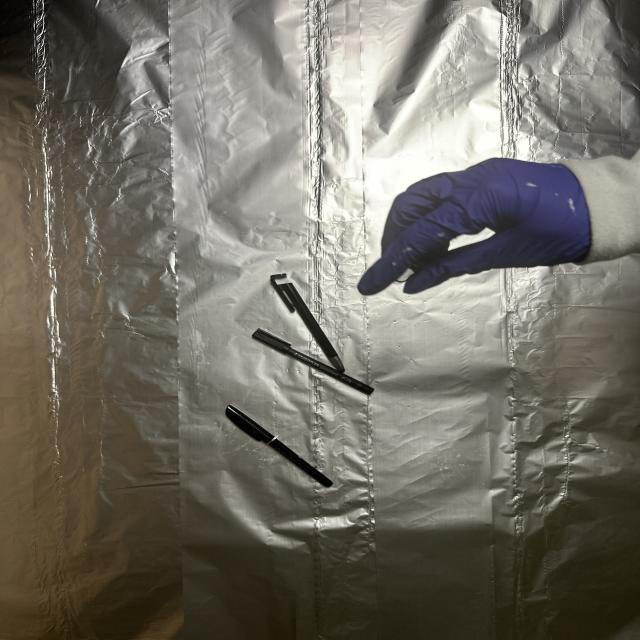gloves_contaminated: (358, 158, 592, 295)
